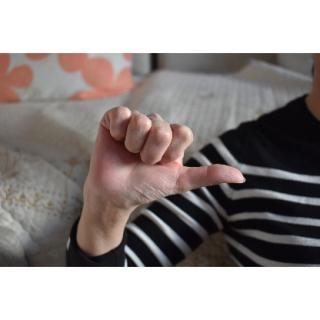DAD: (79, 104, 249, 223)
